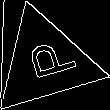P_W: (15, 37, 75, 88)
